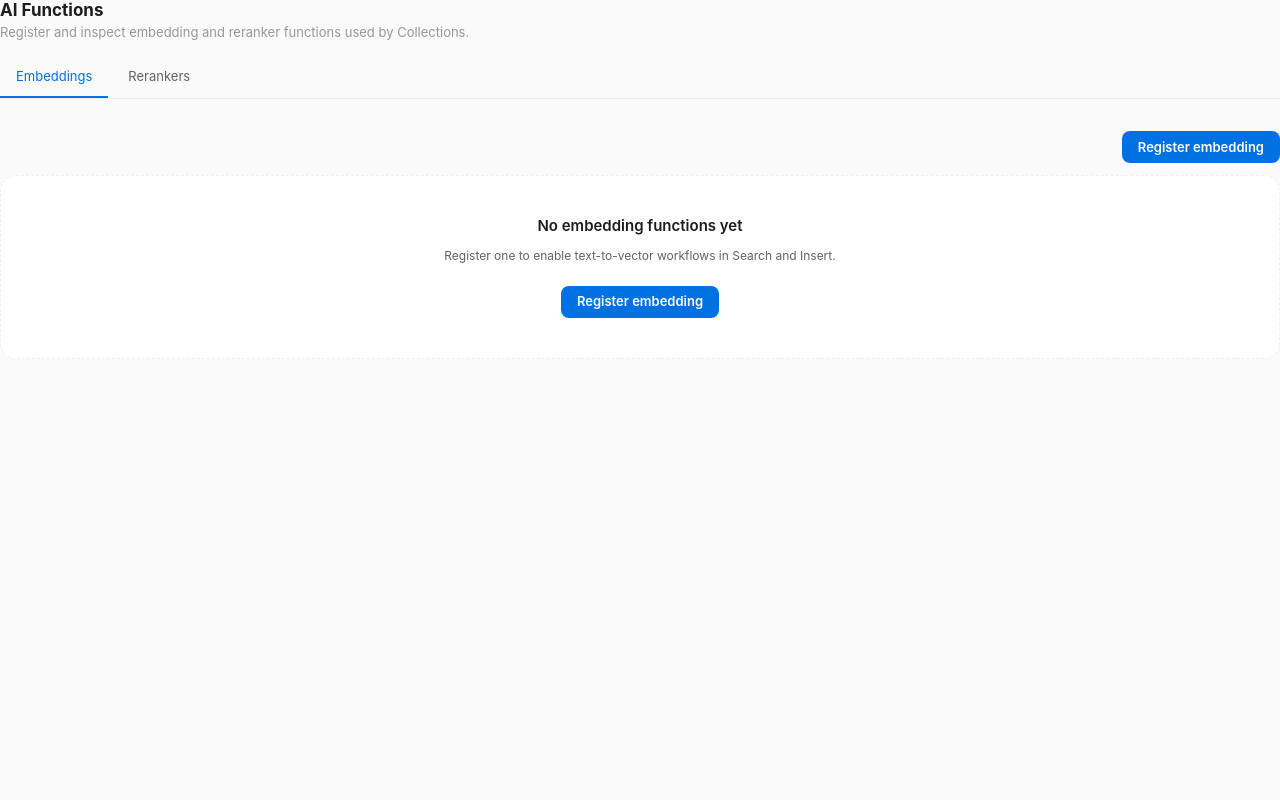
it: AiFunctionsPage › updates embedding config template when changing embedding type
Expected: the message with test id "zv-ai-emb-empty" is shown, [0, 175, 1279, 359]
Click the button with test id "zv-ai-emb-create" at point(1201, 147), box [1122, 131, 1279, 163]
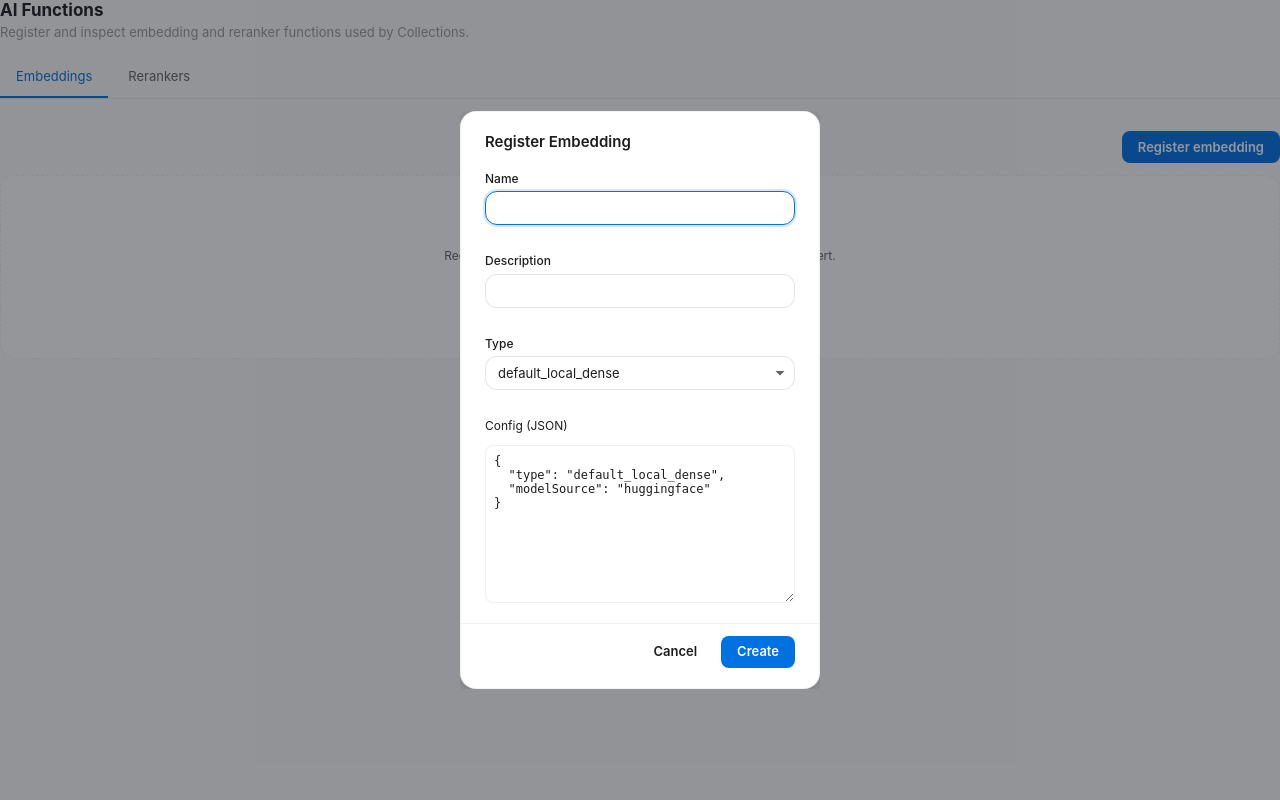
Type "bm25-emb" into the field with test id "zv-ai-emb-name" at point(640, 208), box [485, 191, 795, 225]
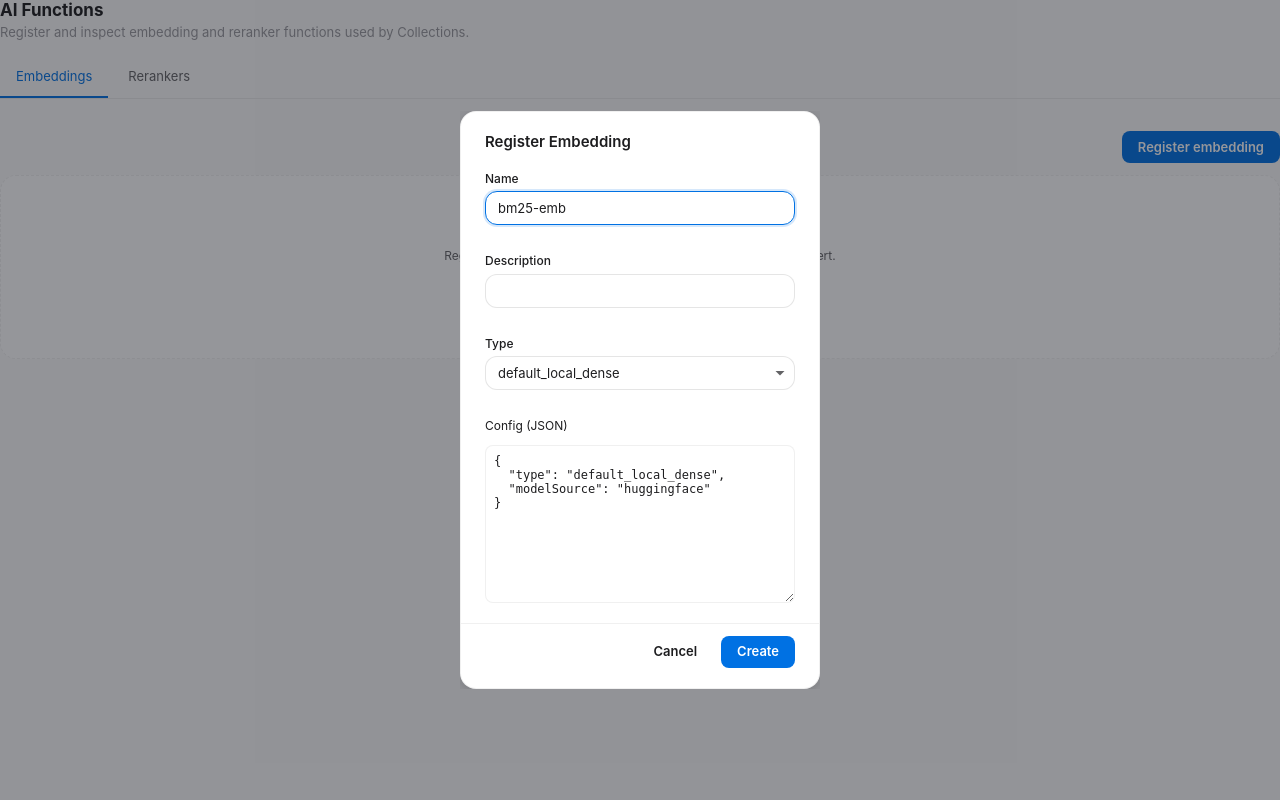
Select "bm25" in the dropdown with test id "zv-ai-emb-type" at point(640, 373), box [485, 356, 795, 390]
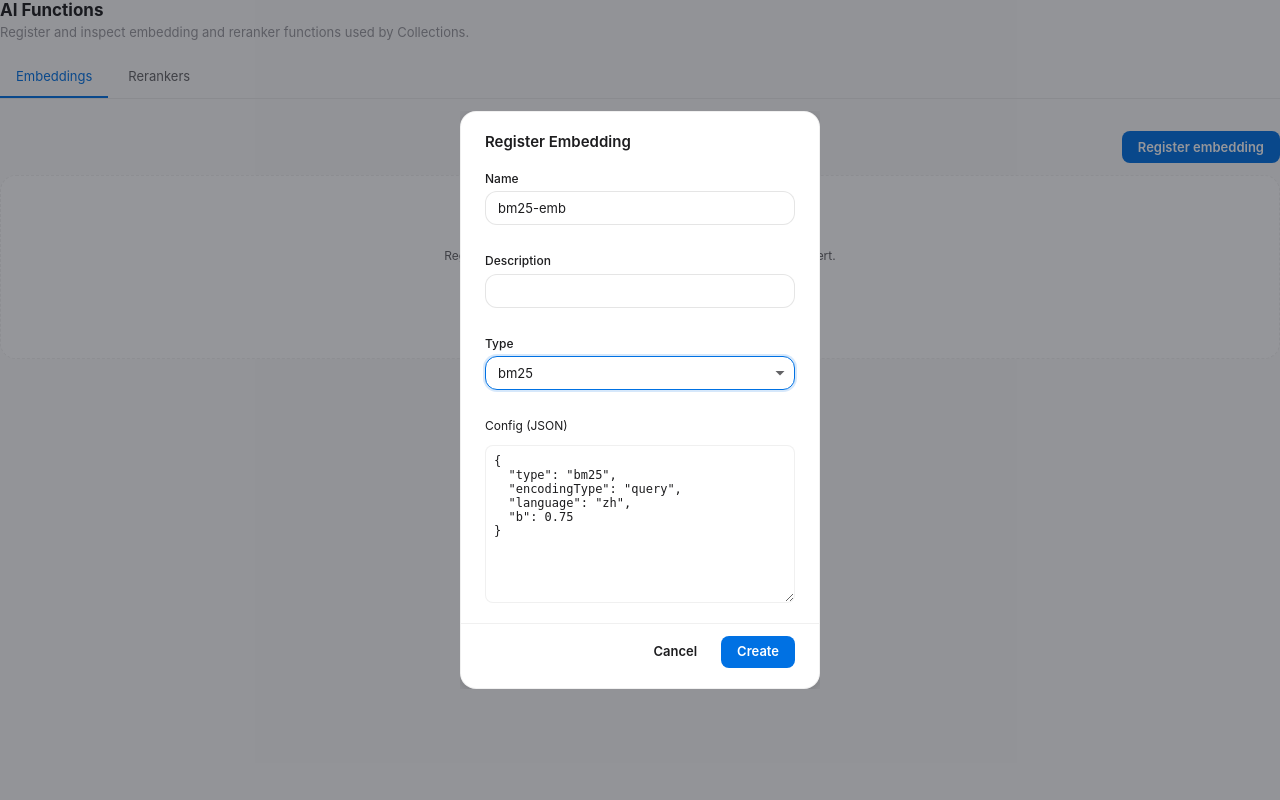
Click the button with test id "zv-ai-emb-create-submit" at point(758, 652), box [721, 636, 795, 668]
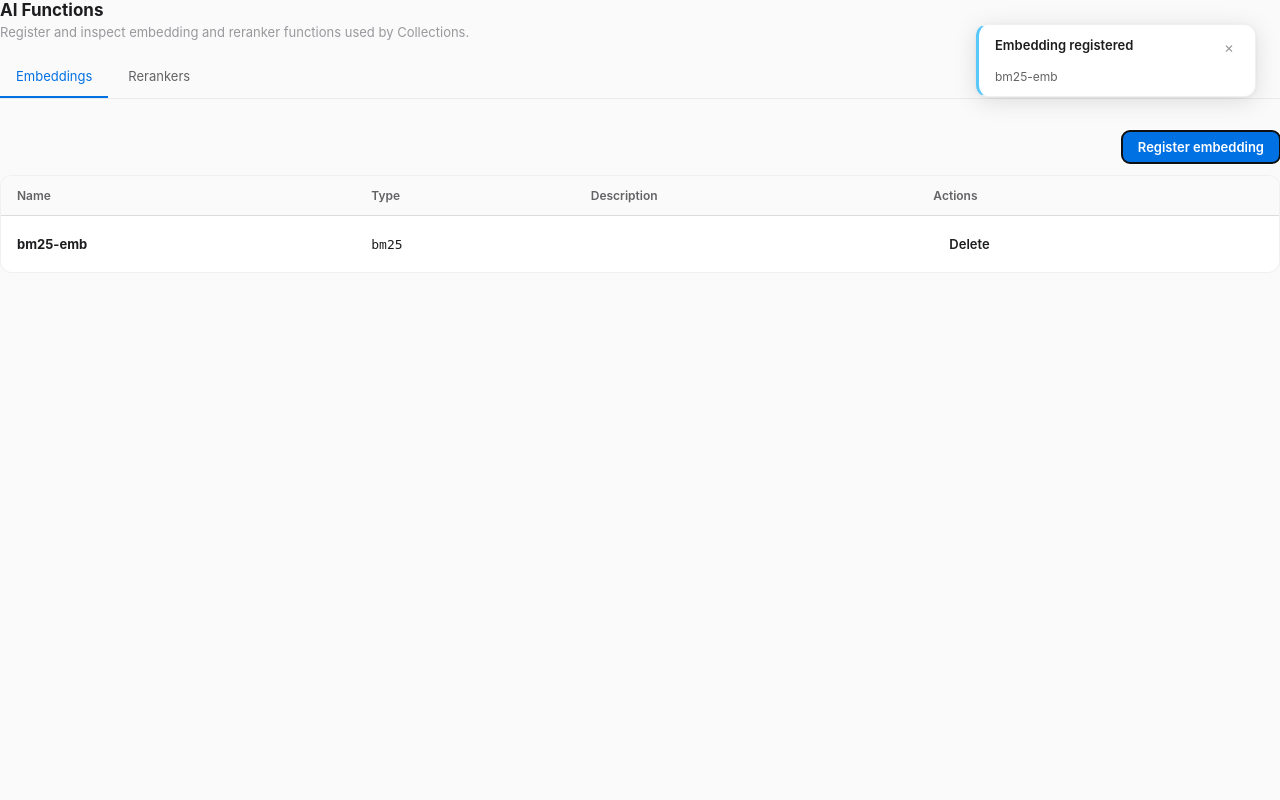
Expected: the text "bm25" is shown, [371, 237, 403, 252]
